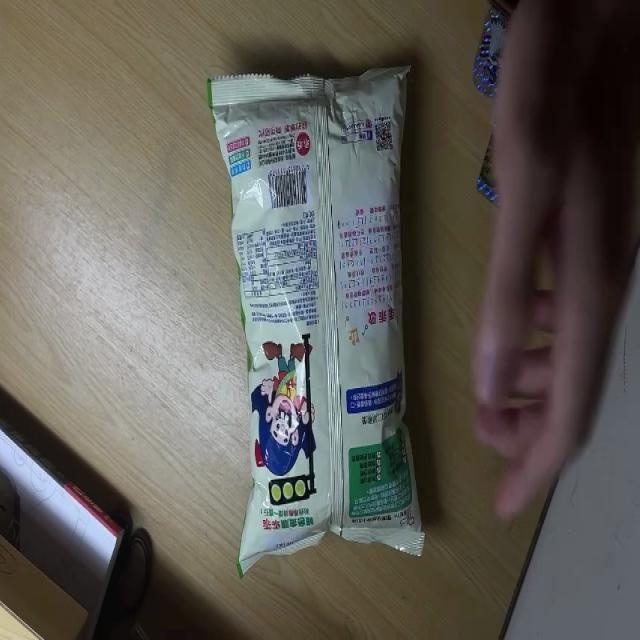Good-Luck: (204, 56, 426, 582)
